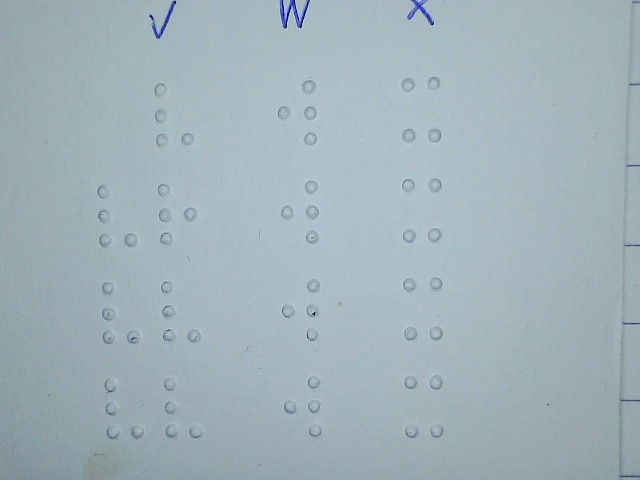V: (153, 80, 197, 149), (96, 181, 140, 250), (159, 276, 203, 345), (162, 374, 206, 443), (103, 374, 147, 443)
W: (276, 77, 320, 146), (278, 176, 322, 245), (279, 275, 323, 344), (281, 371, 325, 440)
X: (399, 74, 443, 143), (400, 175, 444, 244), (401, 273, 445, 342), (402, 372, 446, 441)
